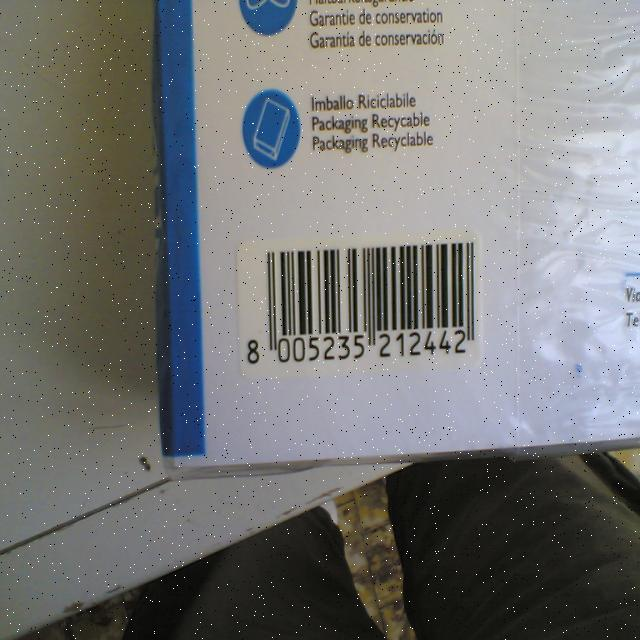barcode: (238, 232, 480, 378)
